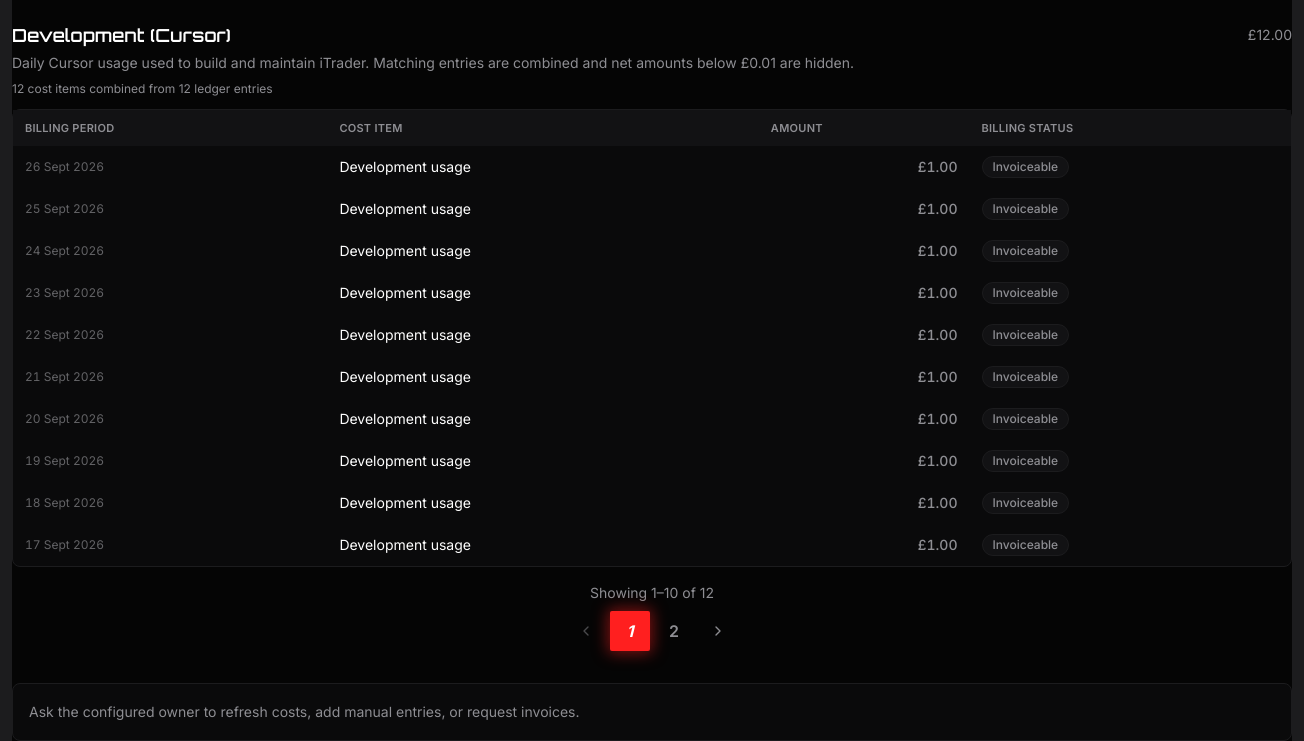
it: admin costs dashboard T5 › paginates long cost lists instead of rendering every line at once
The width and height of the screenshot is (1304, 741).
(page scrolled)
Expected: the text "Daily Cursor usage used to build and maintain iTrader" is shown, [12,54,854,71]
Expected: the text "12 cost items combined from 12 ledger entries" is shown, [12,81,273,97]
Click the button named "Page 2": (674, 631) [654,611,694,651]
(page scrolled)
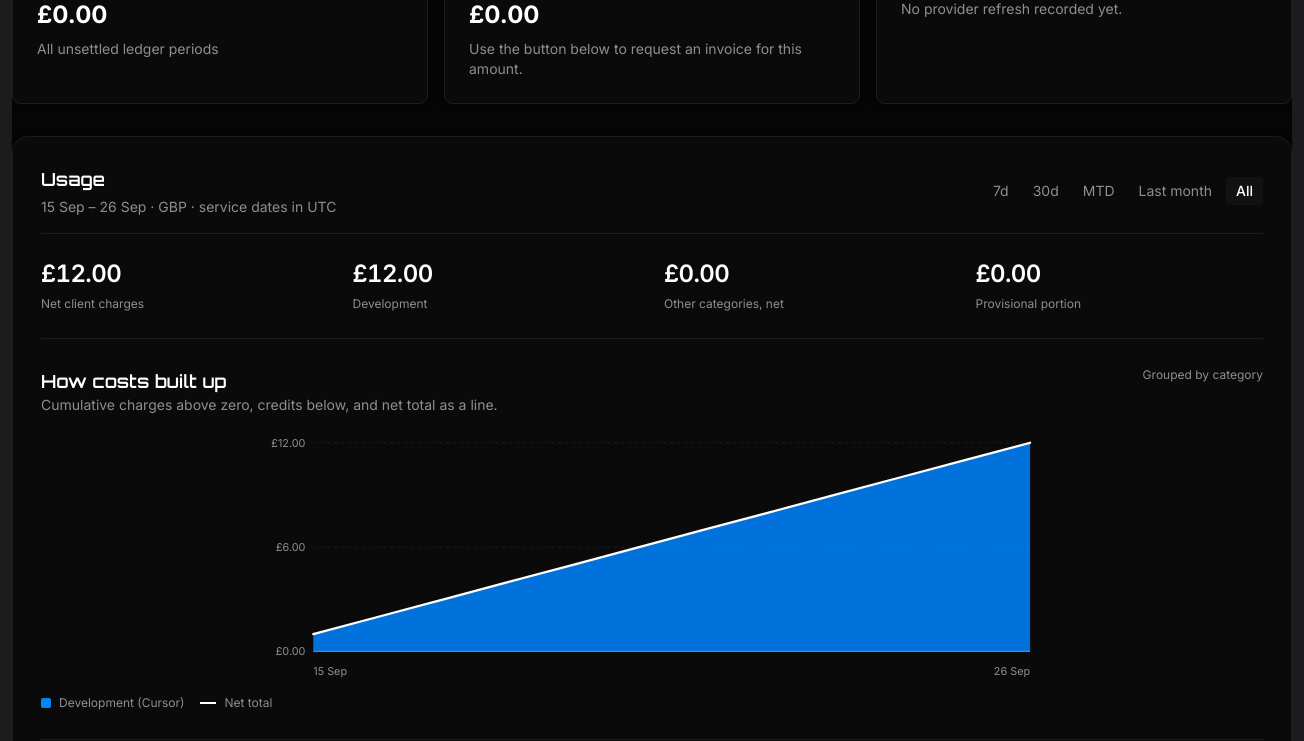
Expected: the cell "26 Sept 2026" is gone
Click the button "7d": (1001, 191) [983,177,1019,205]
(page scrolled)
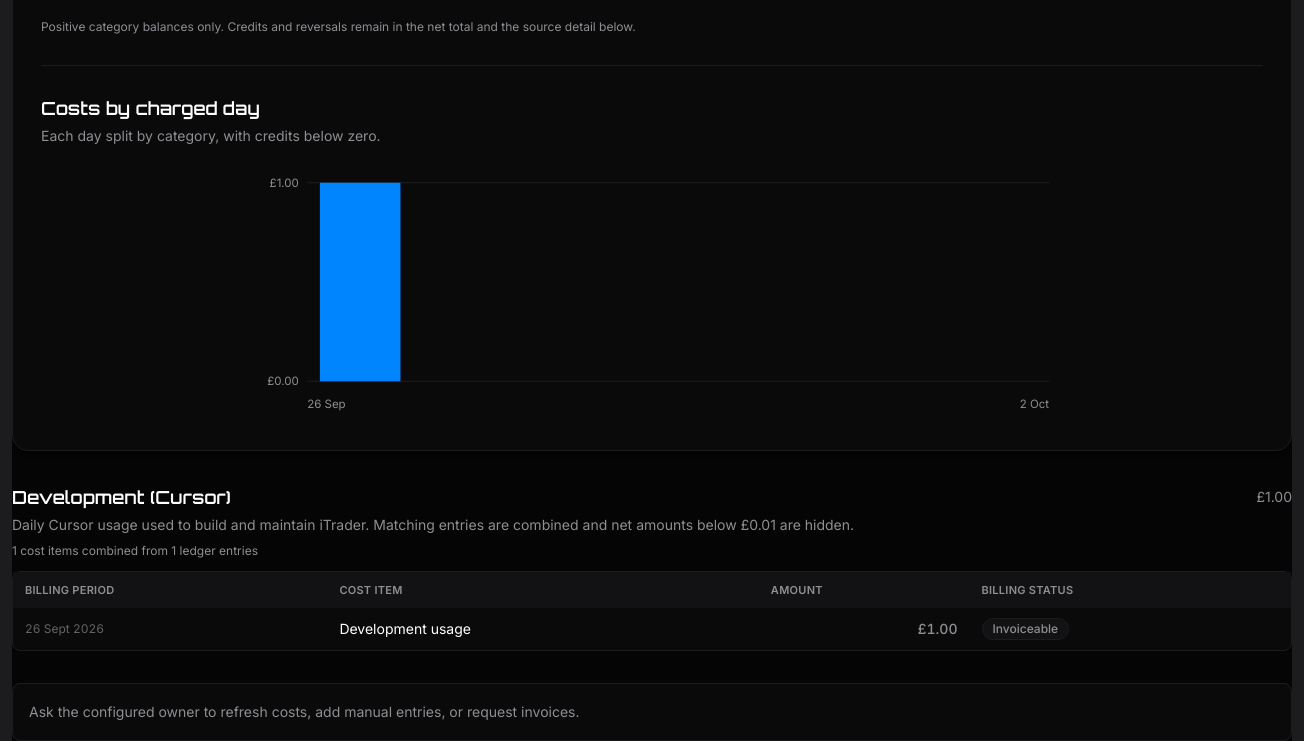
Expected: the cell "26 Sept 2026" is shown, [13,608,327,650]
